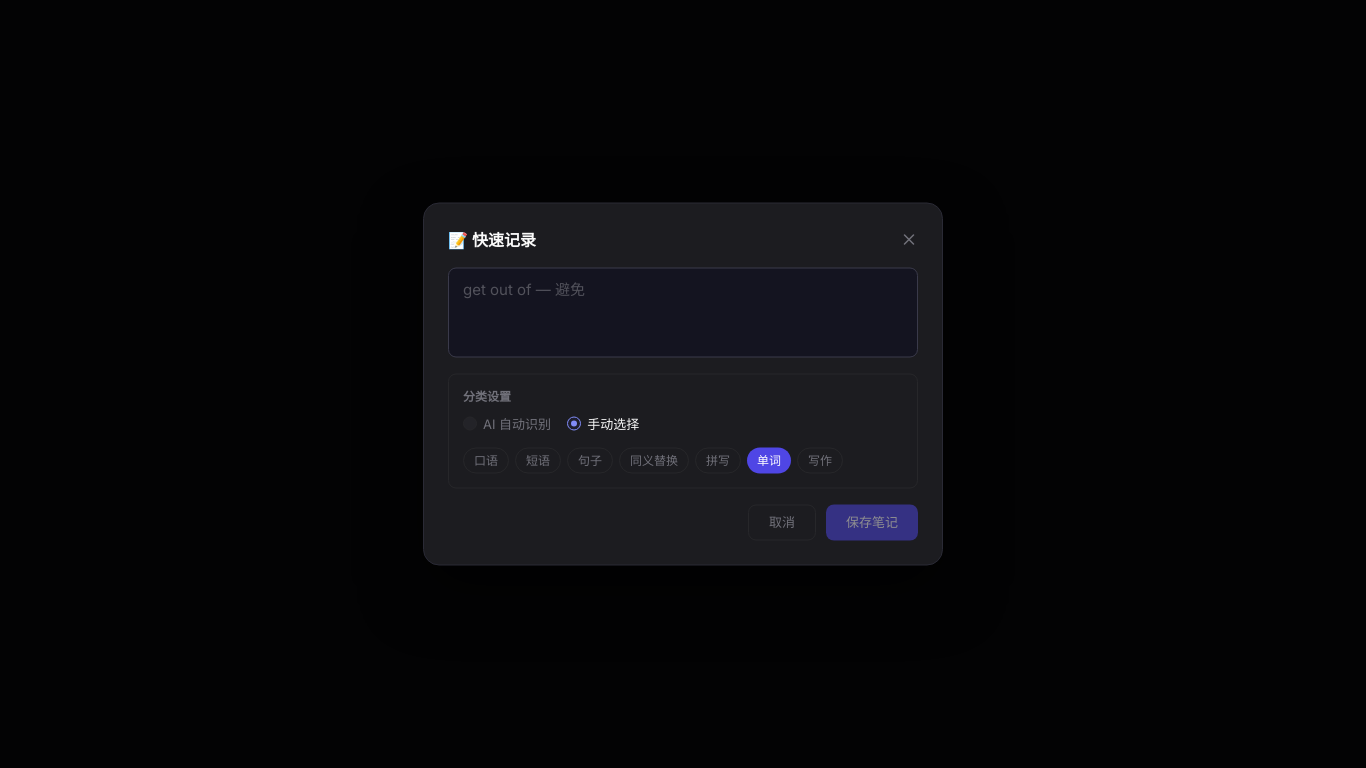
Scenario: QuickNoteModal › 后端失败时显示本地兜底提示
Type "local fallback — 本地兜底" into the text box with placeholder "get out of — 避免". click: x=683, y=312
box: [448,268,918,357]
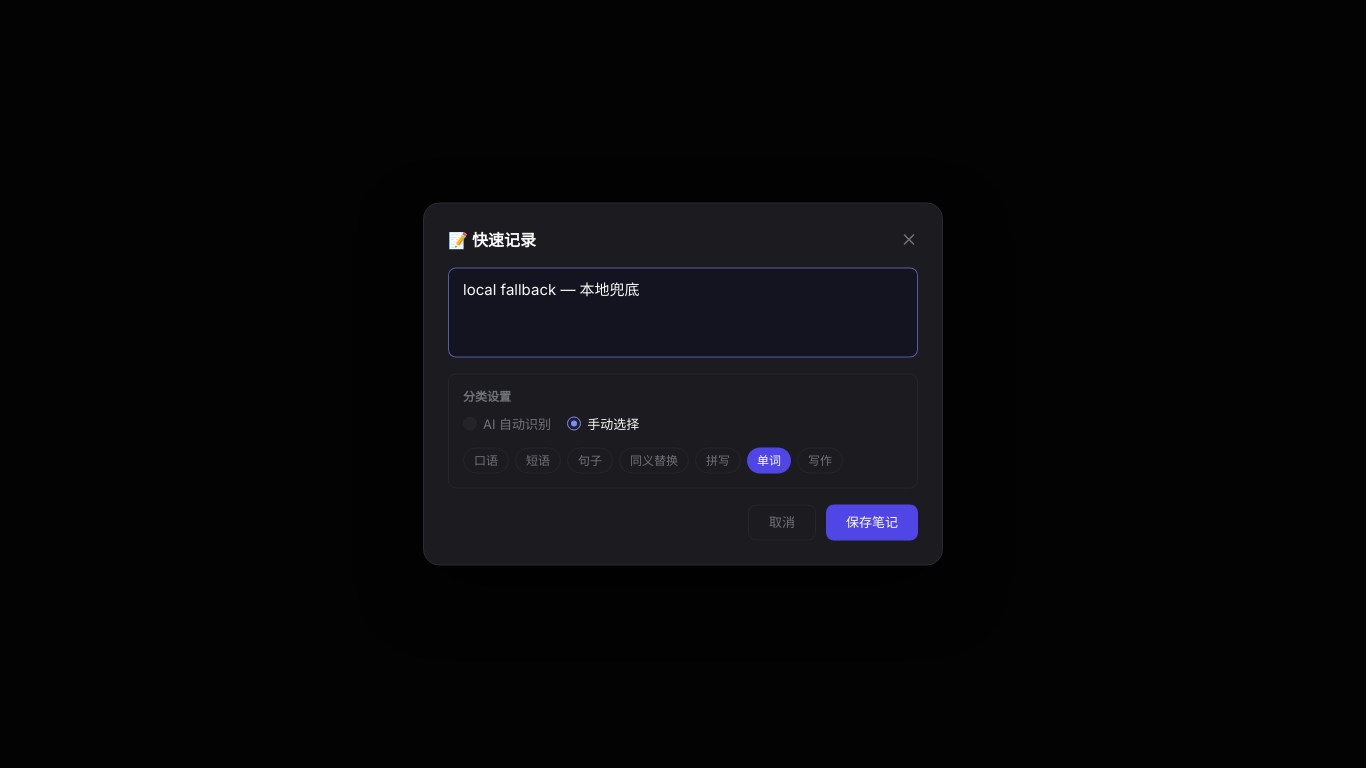
Click the button "保存笔记". click: x=872, y=522
box: [826,504,918,540]
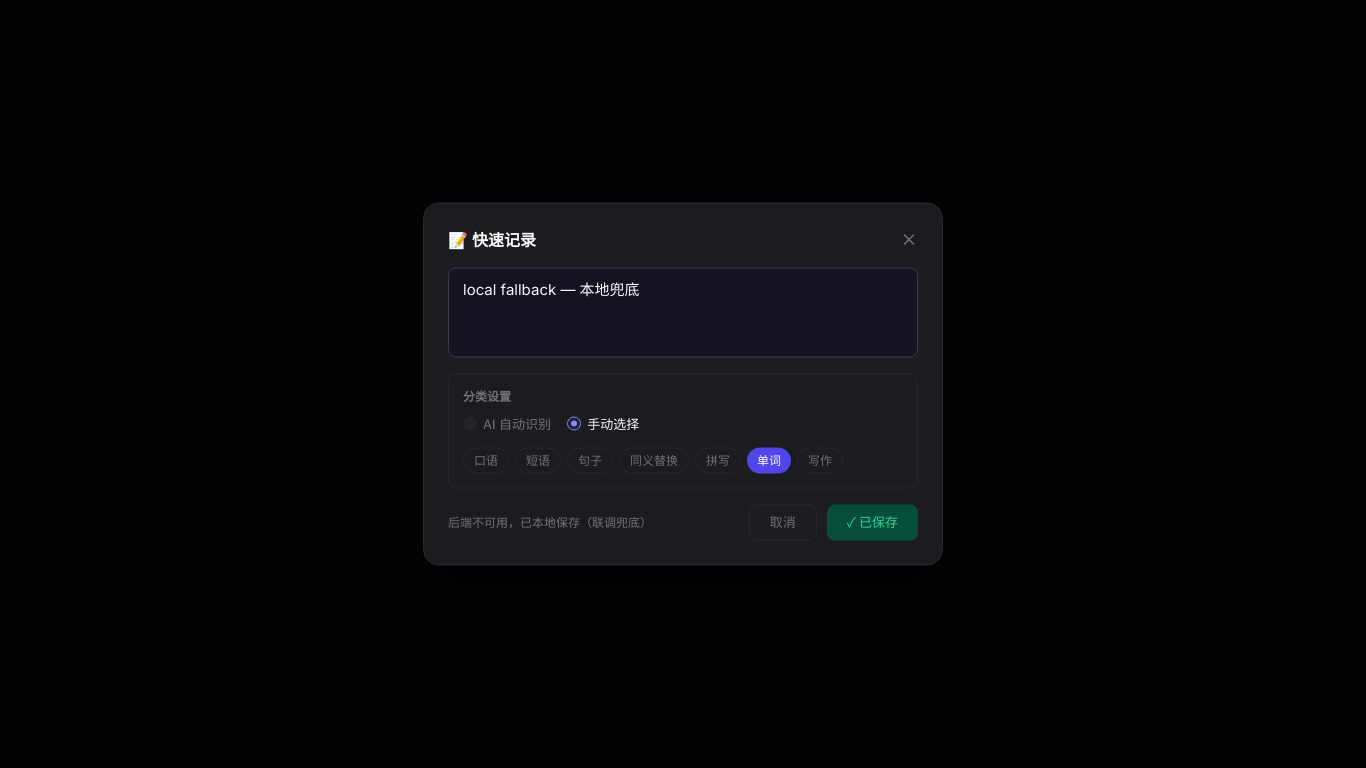
expect the text "后端不可用，已本地保存（联调兜底）" is shown: met, box [448,514,652,532]
